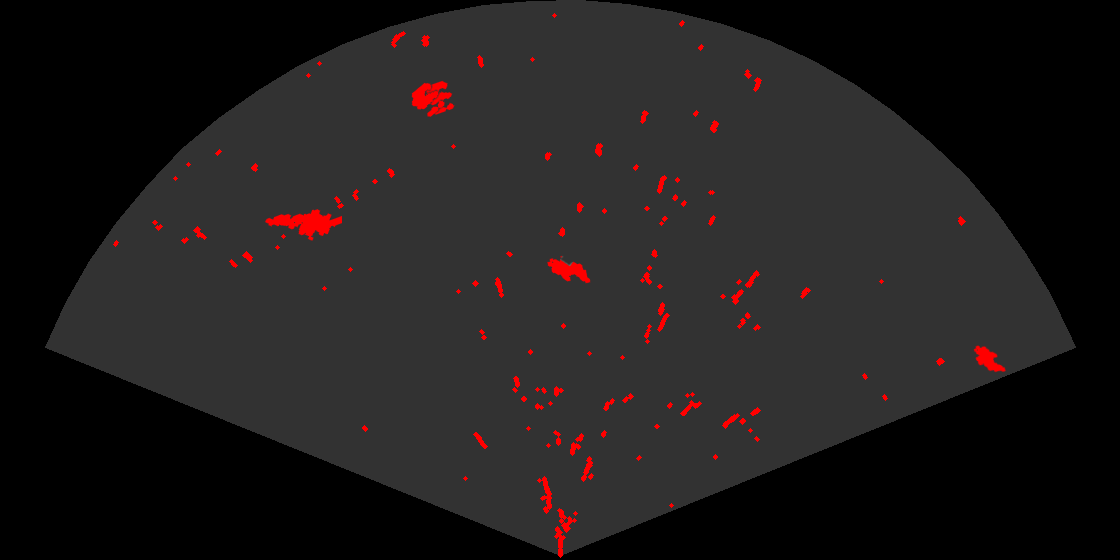AUV: (546, 254, 592, 285), (972, 344, 1008, 374)
ball: (410, 81, 446, 118), (421, 79, 456, 116)
frogman: (263, 208, 342, 242)
